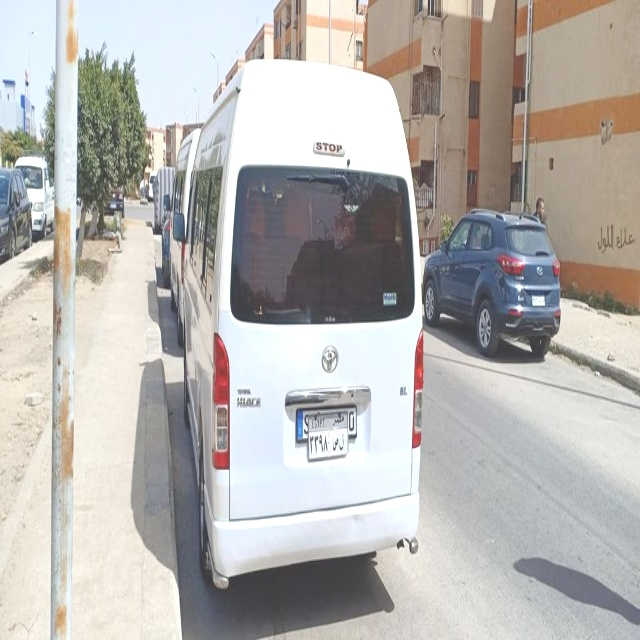License Plate: (307, 411, 349, 461)
